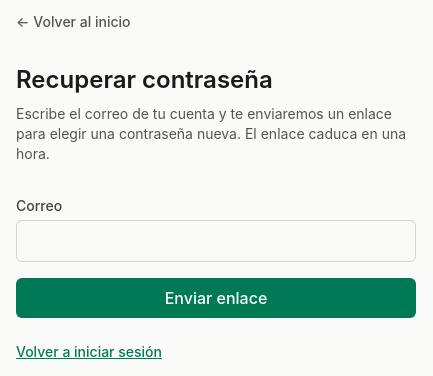
Test case: recuperación de contraseña › envía el correo normalizado y muestra la confirmación
Type "  Persona@Example.COM " into the field labelled "Correo" at point(216, 241), box [16, 220, 416, 262]
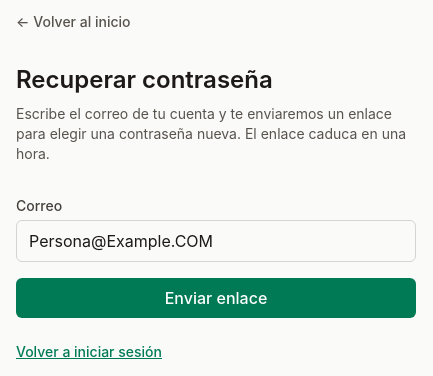
Submit the form "Correo Enviar enlace", box [16, 196, 416, 318]
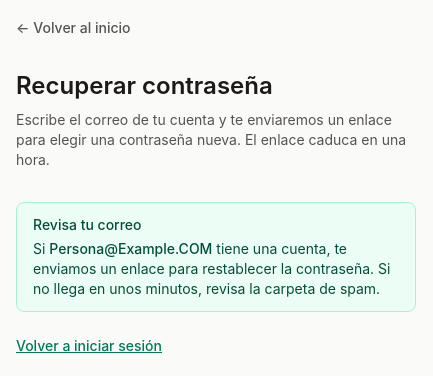
Check: the message is shown, box [16, 202, 416, 312]
